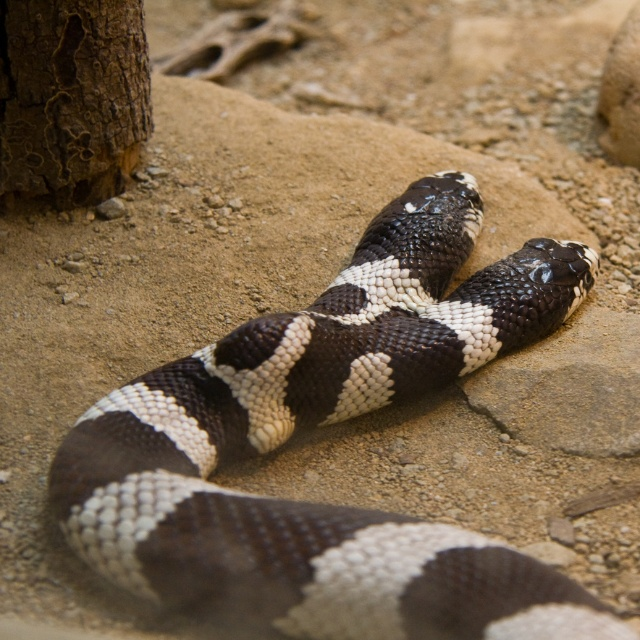Snake: (47, 170, 640, 640)
